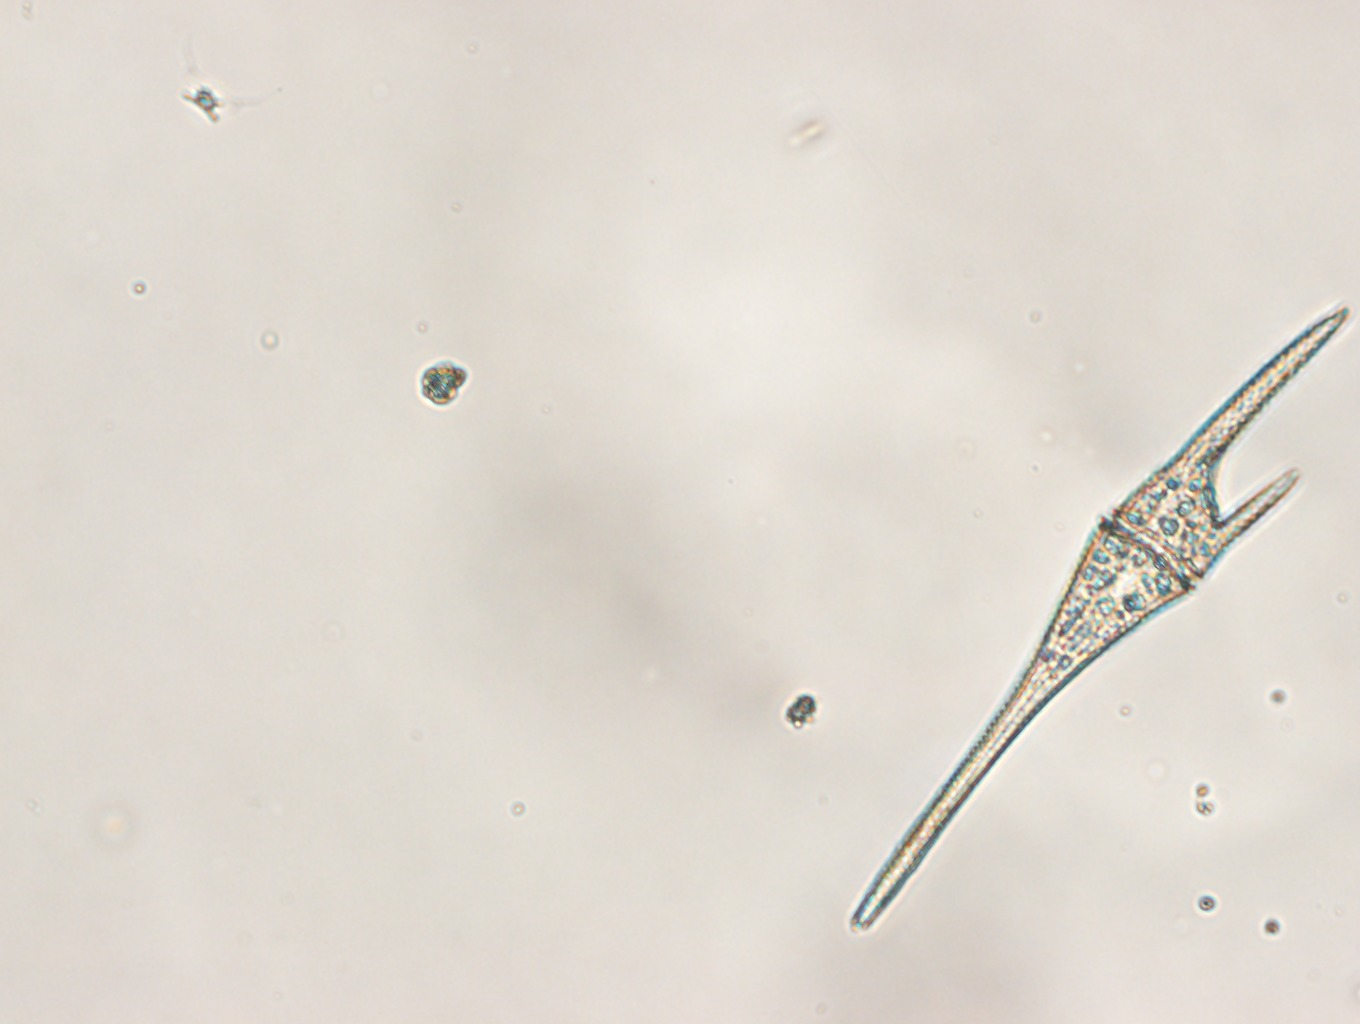ceratium furca: (848, 300, 1352, 936)
